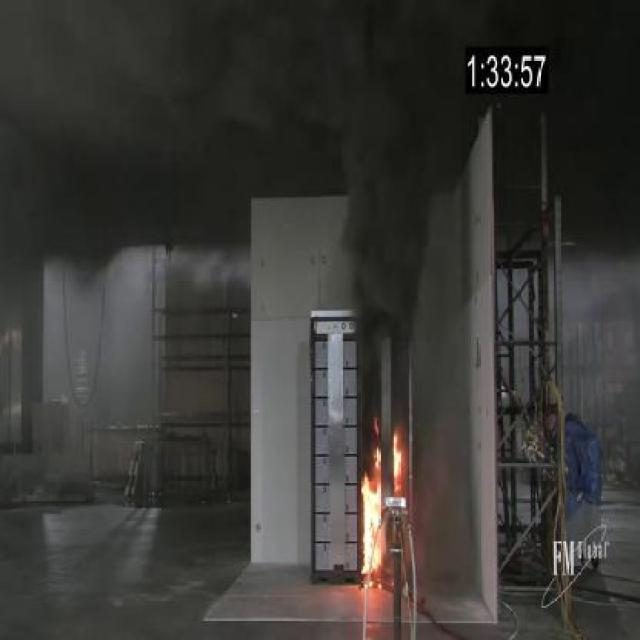fire: (324, 56, 440, 302)
smoke: (358, 442, 386, 584), (392, 423, 410, 499)
